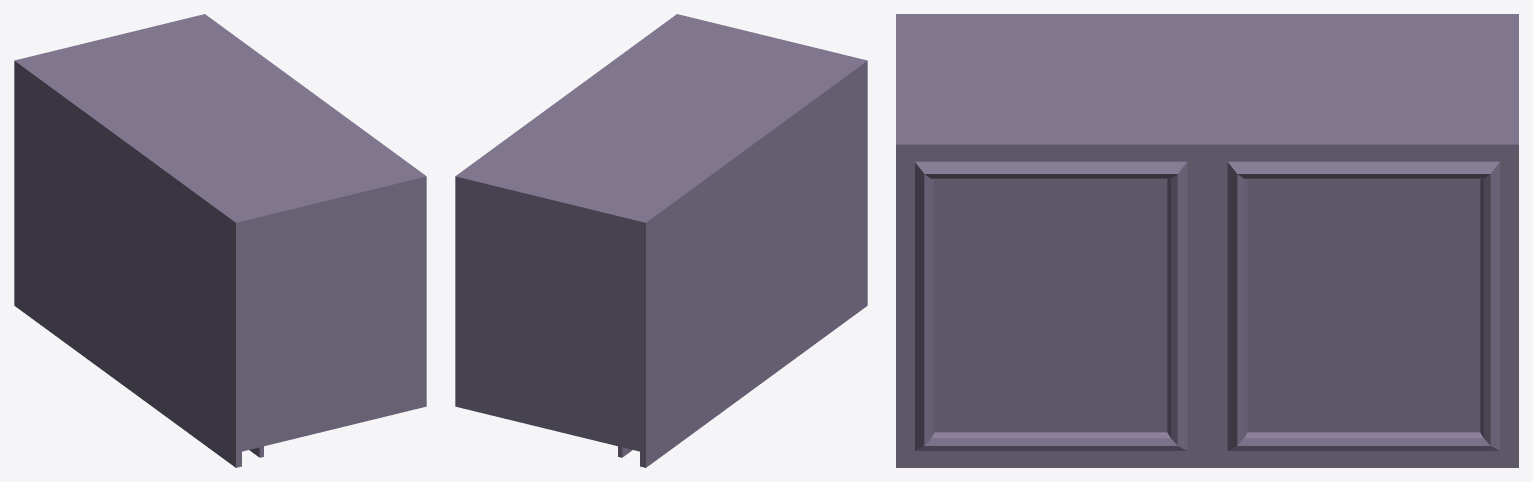
Rendered from Kitchen cabinets.fbx.
3 views of the same model, side by side, from view 1: azimuth 30°, elevation 25°; view 2: azimuth 150°, elevation 25°; view 3: azimuth 270°, elevation 25° (orthographic). The views are drawn at different scales.
Parts seen in each view (by area): view 1: Cube; view 2: Cube; view 3: Cube.
Part boxes in pixels (x1,y1,x2,y2): Cube: [14, 14, 426, 467]; Cube: [455, 14, 867, 467]; Cube: [896, 14, 1518, 467].
Size of the model in its own units: 103 by 124 by 203.
